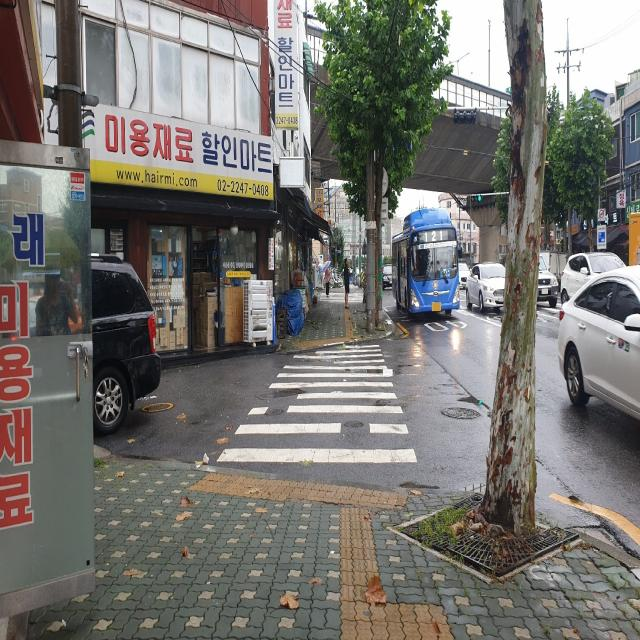횡단보도: (215, 341, 419, 465)
